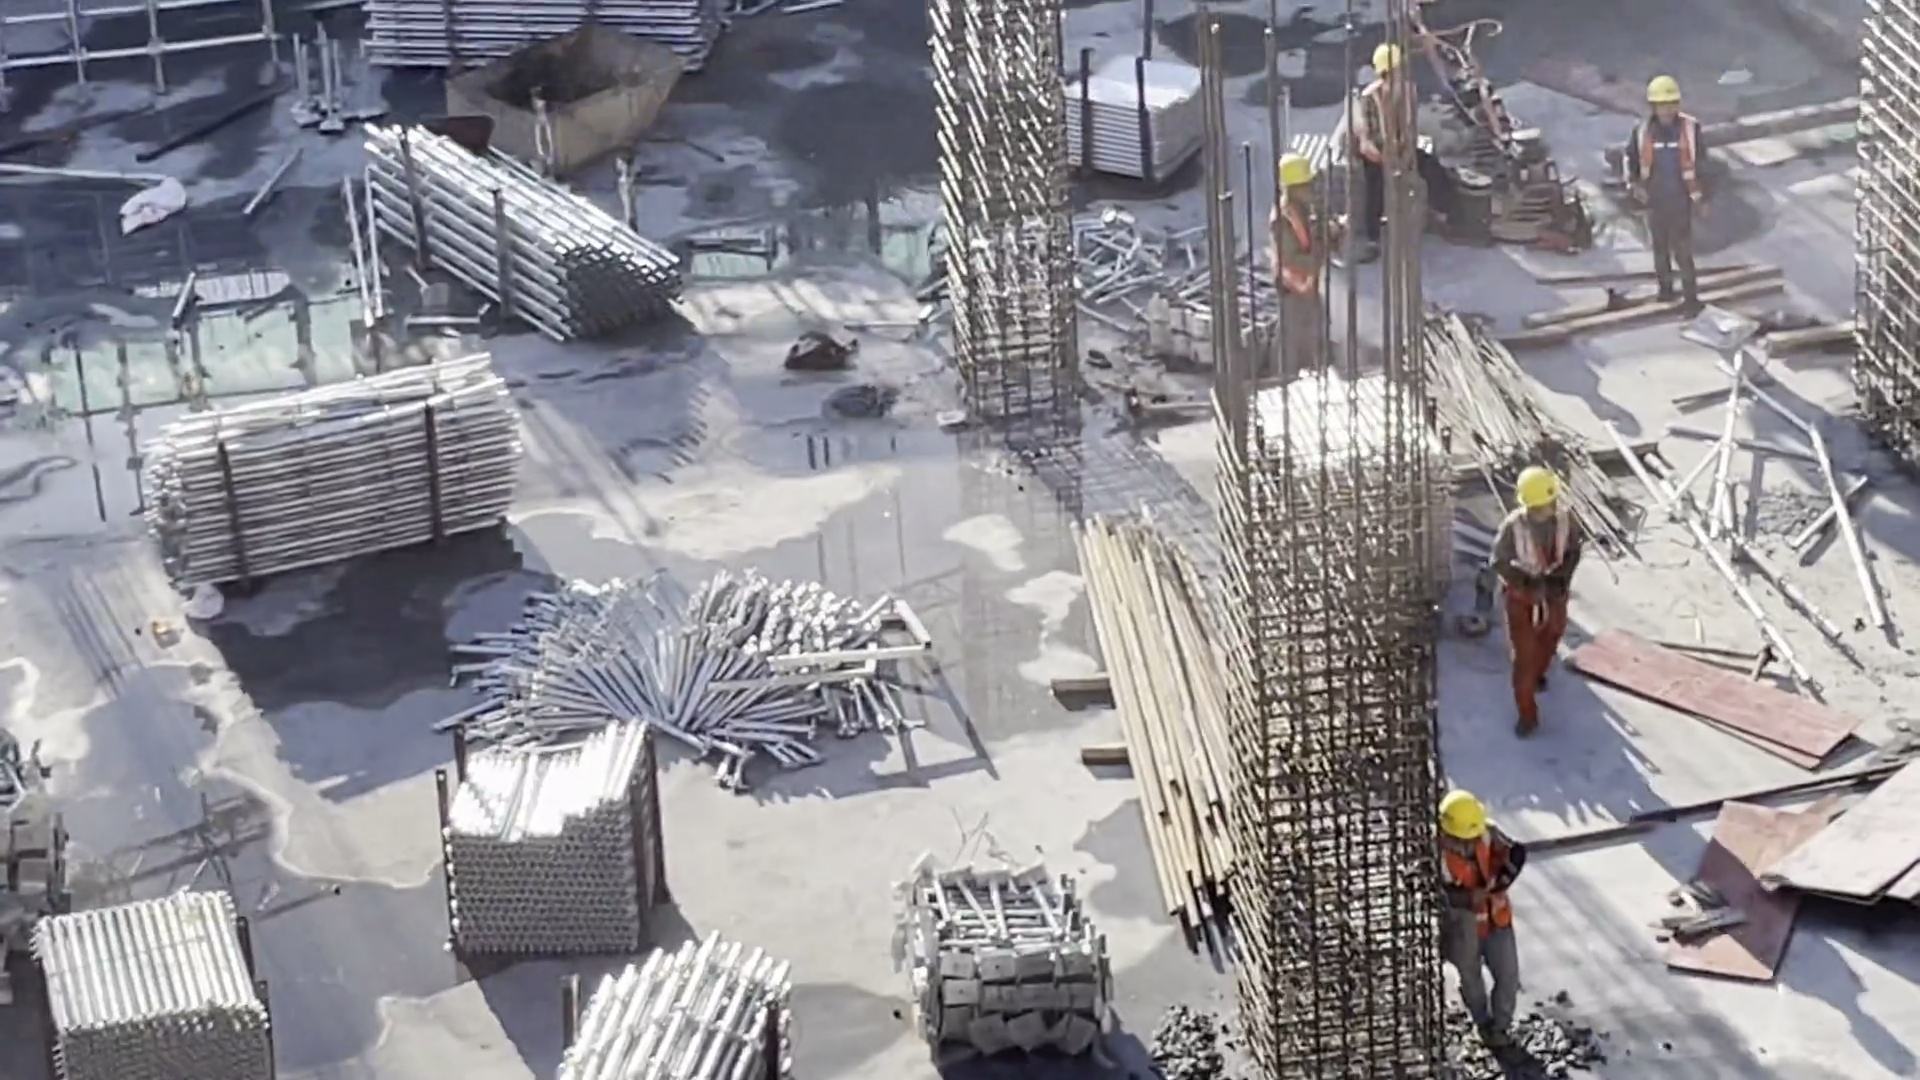board: (1782, 741, 1920, 921)
helmet: (1440, 790, 1504, 842), (1507, 468, 1570, 508), (1275, 150, 1321, 191), (1637, 71, 1688, 104), (1370, 45, 1407, 78)
hopper: (447, 16, 682, 171)
person: (1426, 776, 1534, 1034), (1622, 74, 1719, 326), (1492, 463, 1582, 722), (1264, 153, 1355, 389), (1363, 34, 1432, 249)
scaffold: (456, 564, 897, 760), (158, 362, 553, 551), (358, 131, 682, 351), (435, 730, 685, 949), (64, 846, 287, 1055), (877, 854, 1100, 1036), (533, 923, 794, 1068), (372, 1, 734, 80), (1061, 219, 1259, 362), (1035, 41, 1214, 175)
vest: (1636, 108, 1717, 216), (1436, 836, 1515, 926), (1268, 192, 1334, 297), (1355, 77, 1422, 170), (1503, 513, 1571, 599)
